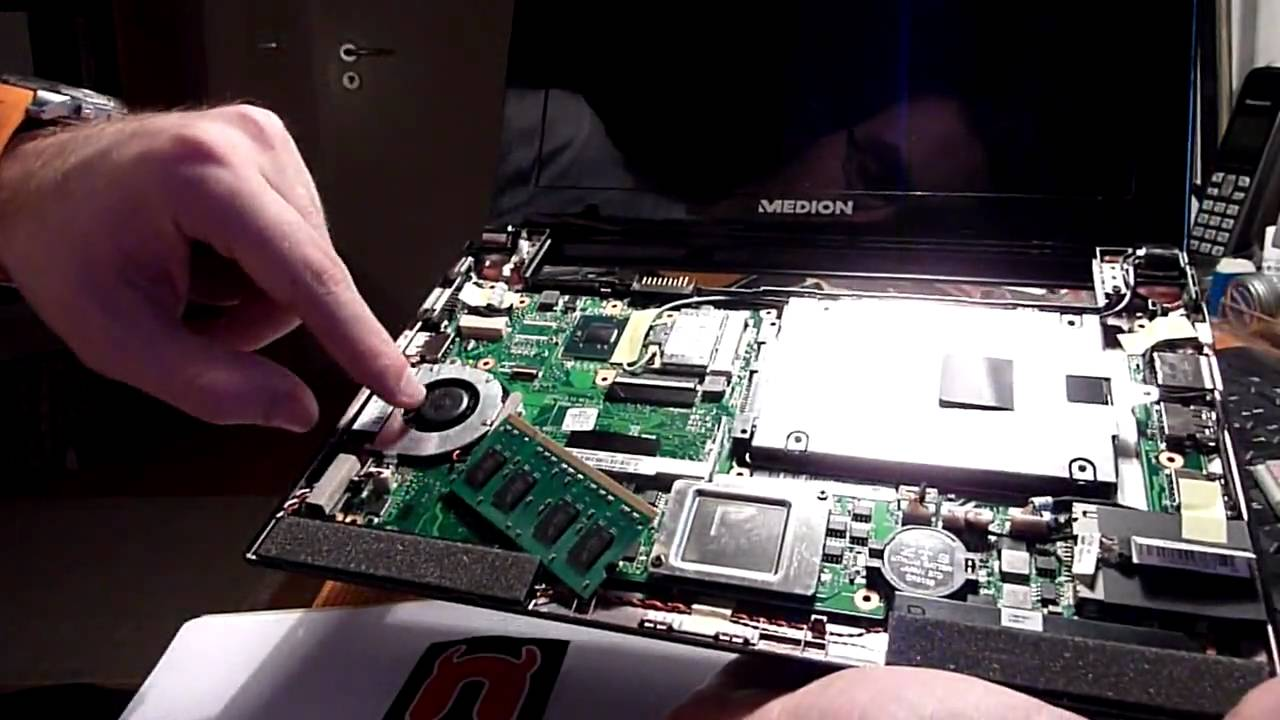ram: (446, 413, 639, 606)
